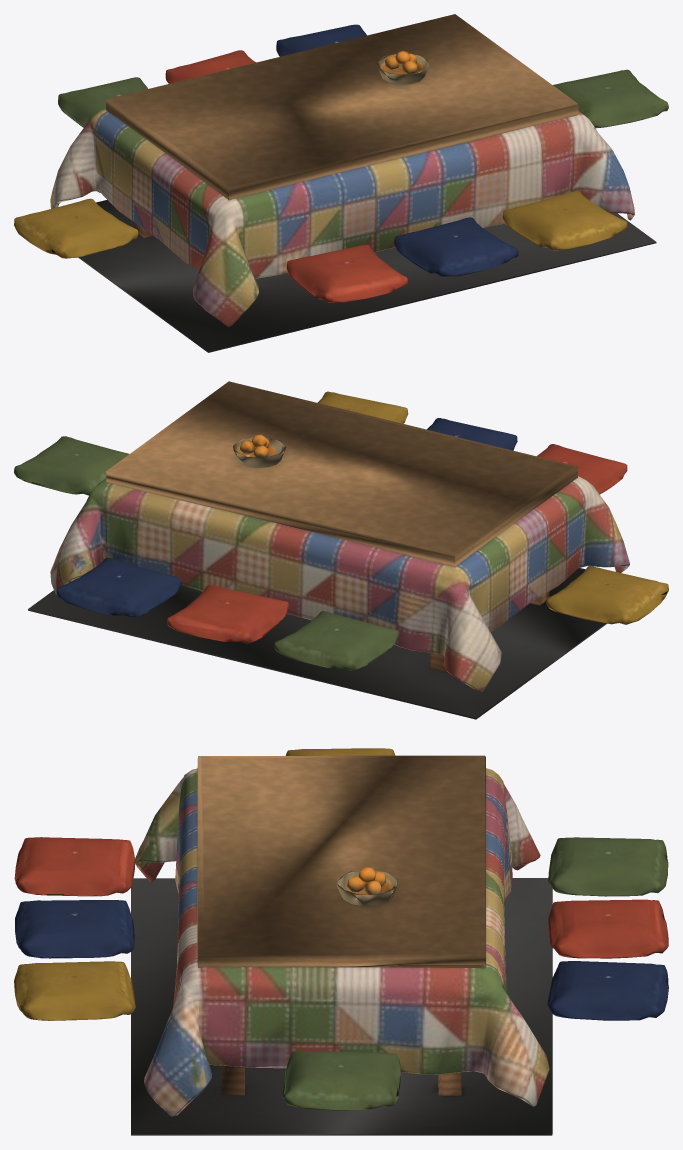
The model's file is kotatsu_lodge_patch.glb.
3 views of the same model, one above another, from view 1: azimuth 30°, elevation 25°; view 2: azimuth 150°, elevation 25°; view 3: azimuth 270°, elevation 25° (orthographic). The views are drawn at different scales.
Visible parts, largest first — view 1: prop_kotatsu_lodge_patch_felt.001, prop_kotatsu_lodge_patch_wood.001; view 2: prop_kotatsu_lodge_patch_felt.001, prop_kotatsu_lodge_patch_wood.001; view 3: prop_kotatsu_lodge_patch_felt.001, prop_kotatsu_lodge_patch_wood.001.
Boxes of the visible parts, <box> form: prop_kotatsu_lodge_patch_felt.001: <box>14,24,668,352</box>; prop_kotatsu_lodge_patch_wood.001: <box>106,14,578,238</box>; prop_kotatsu_lodge_patch_felt.001: <box>14,391,668,719</box>; prop_kotatsu_lodge_patch_wood.001: <box>106,381,577,672</box>; prop_kotatsu_lodge_patch_felt.001: <box>14,748,668,1135</box>; prop_kotatsu_lodge_patch_wood.001: <box>197,755,485,1095</box>.
Bounding box in the file's own units: 4.15 × 0.9901 × 3.24.
Materials: 3 (3 with a texture image).
